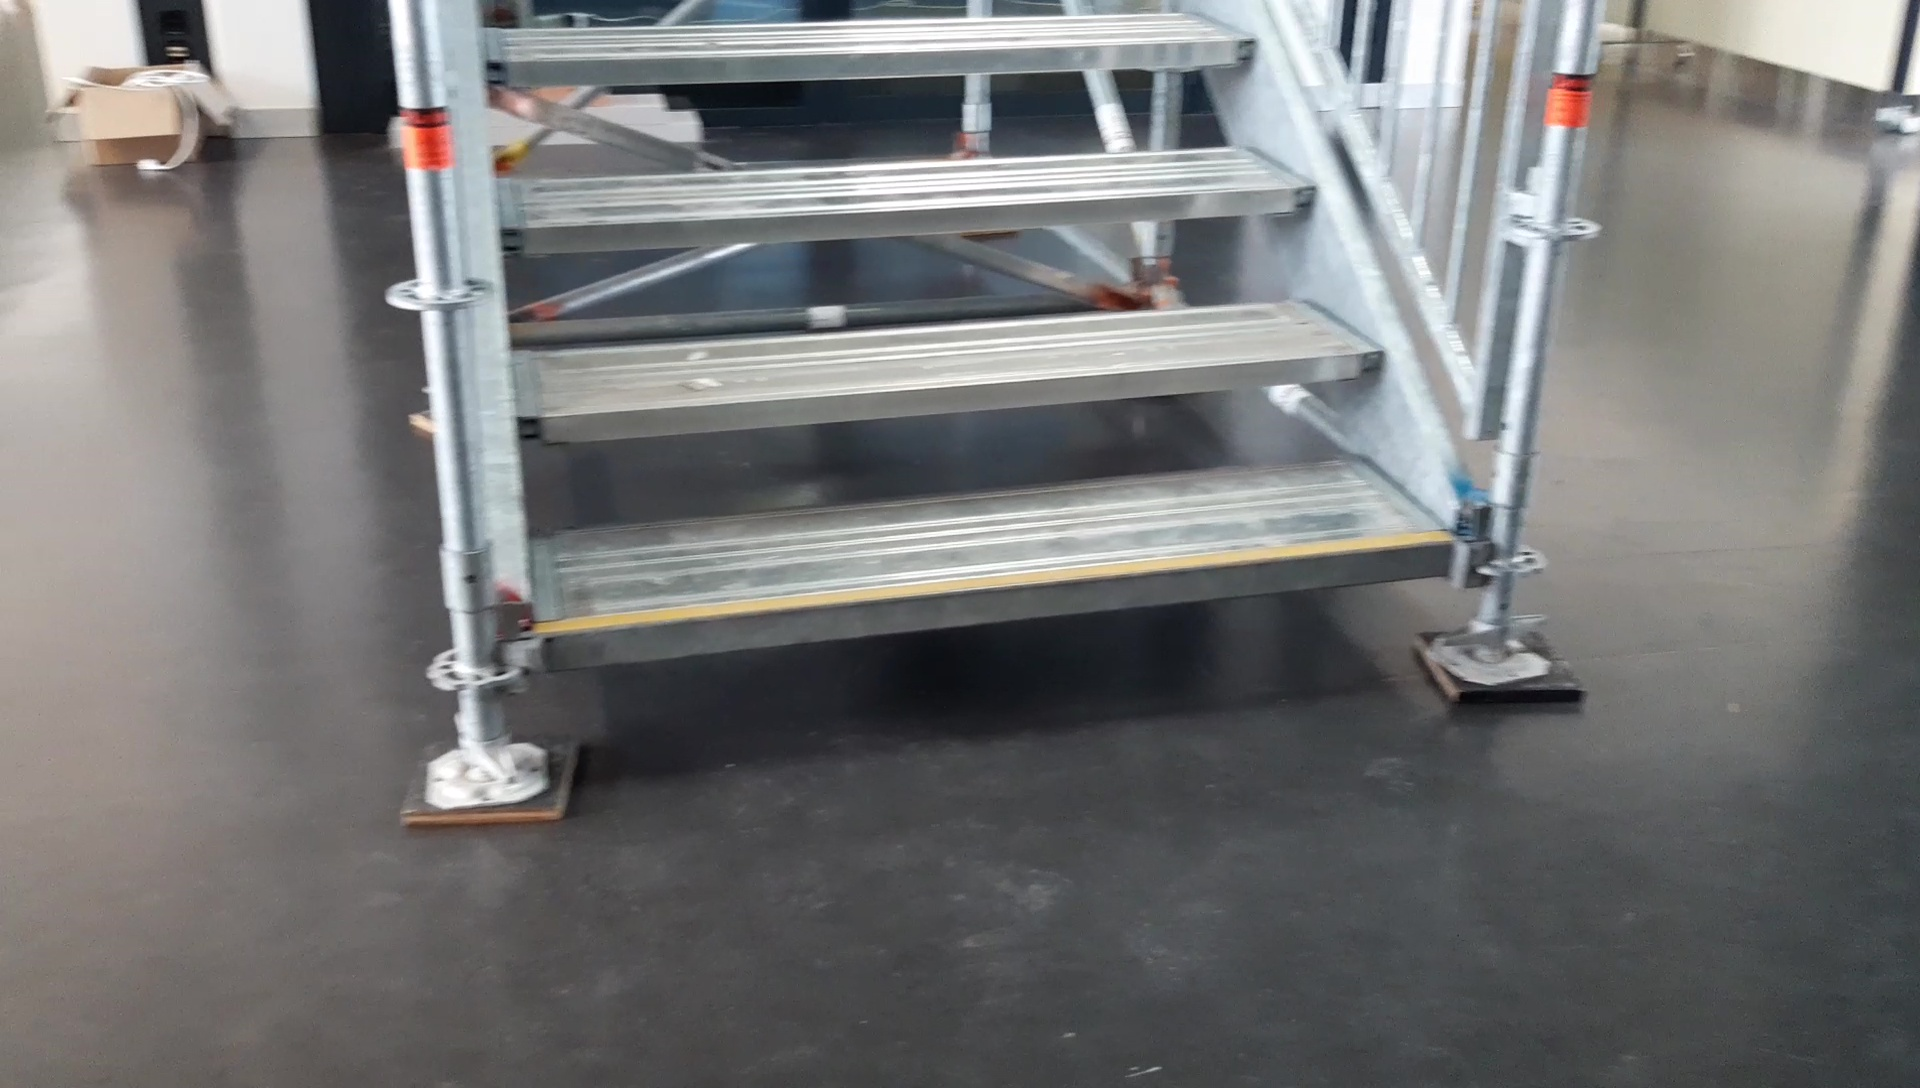edge: (545, 538, 1455, 673), (521, 349, 1385, 443), (502, 186, 1317, 245), (480, 38, 1255, 83)
stairs: (396, 5, 1582, 823)
